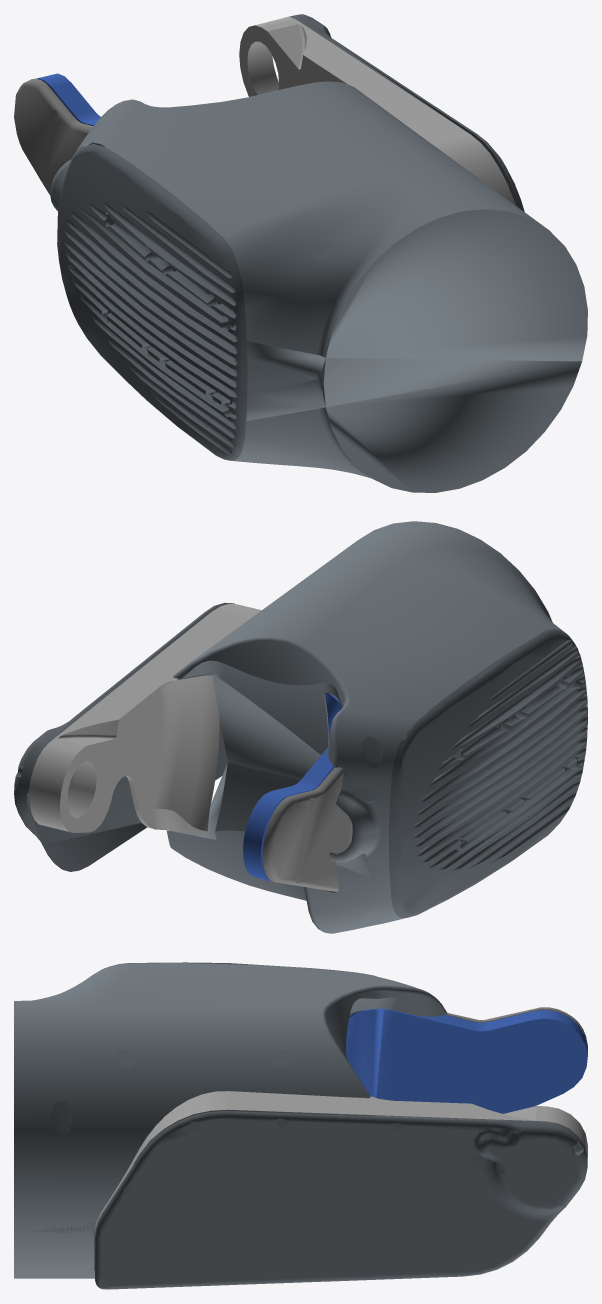
The model's file is RightWristYawLink.obj.
3 views of the same model, one above another, from view 1: azimuth 30°, elevation 25°; view 2: azimuth 150°, elevation 25°; view 3: azimuth 270°, elevation 25° (orthographic). The views are drawn at different scales.
Visible parts, largest first — view 1: N17_24_P02_10_L_Forearm_cover_Inside, N17_24_P02_08_Forearm_Heatsink, N17_24_P02_11_L_Forearm_cover_Outside, N17_24_P02_06_L_Forearm_Inside_structure, N17_24_P02_07_L_Forearm_Outside_structure_lid, N17_24_P02_06_L_Forearm_Inside_structure001, N17_24_P02_05_L_Forearm_Inside_structure_lid, N17_24_P02_01_L_Forearm_Outside_structure; view 2: N17_24_P02_10_L_Forearm_cover_Inside, N17_24_P02_08_Forearm_Heatsink, N17_24_P02_06_L_Forearm_Inside_structure, N17_24_P02_11_L_Forearm_cover_Outside, N17_24_P02_07_L_Forearm_Outside_structure_lid, N17_24_P02_05_L_Forearm_Inside_structure_lid, N17_24_P02_09_L_Cable_Clamp_Forearm_front, N17_24_P02_01_L_Forearm_Outside_structure, N17_24_P02_06_L_Forearm_Inside_structure001; view 3: N17_24_P02_05_L_Forearm_Inside_structure_lid, N17_24_P02_10_L_Forearm_cover_Inside, N17_24_P02_01_L_Forearm_Outside_structure, N17_24_P02_06_L_Forearm_Inside_structure, N17_24_P02_11_L_Forearm_cover_Outside, N17_24_P02_06_L_Forearm_Inside_structure001, N17_24_P02_08_Forearm_Heatsink, N17_24_P02_07_L_Forearm_Outside_structure_lid.
Boxes of the visible parts, x1,y1,x2,y2 form: N17_24_P02_10_L_Forearm_cover_Inside: (76,81,587,382); N17_24_P02_08_Forearm_Heatsink: (57,144,247,460); N17_24_P02_11_L_Forearm_cover_Outside: (232,358,581,492); N17_24_P02_06_L_Forearm_Inside_structure: (239,17,515,205); N17_24_P02_07_L_Forearm_Outside_structure_lid: (14,78,104,195); N17_24_P02_06_L_Forearm_Inside_structure001: (298,22,513,202); N17_24_P02_05_L_Forearm_Inside_structure_lid: (285,14,524,211); N17_24_P02_01_L_Forearm_Outside_structure: (37,73,100,125); N17_24_P02_10_L_Forearm_cover_Inside: (173,521,569,780); N17_24_P02_08_Forearm_Heatsink: (389,629,587,918); N17_24_P02_06_L_Forearm_Inside_structure: (28,603,261,835); N17_24_P02_11_L_Forearm_cover_Outside: (167,739,405,933); N17_24_P02_07_L_Forearm_Outside_structure_lid: (262,767,352,891); N17_24_P02_05_L_Forearm_Inside_structure_lid: (14,602,234,871); N17_24_P02_09_L_Cable_Clamp_Forearm_front: (329,774,391,884); N17_24_P02_01_L_Forearm_Outside_structure: (243,693,375,881); N17_24_P02_06_L_Forearm_Inside_structure001: (56,604,258,737); N17_24_P02_05_L_Forearm_Inside_structure_lid: (95,1110,587,1289); N17_24_P02_10_L_Forearm_cover_Inside: (14,963,447,1232); N17_24_P02_01_L_Forearm_Outside_structure: (346,1008,587,1113); N17_24_P02_06_L_Forearm_Inside_structure: (95,1091,587,1234); N17_24_P02_11_L_Forearm_cover_Outside: (14,1164,133,1278); N17_24_P02_06_L_Forearm_Inside_structure001: (95,1091,539,1226); N17_24_P02_08_Forearm_Heatsink: (102,962,375,1164); N17_24_P02_07_L_Forearm_Outside_structure_lid: (445,1007,587,1045).
Bounding box in the file's own units: 0.1139 × 0.087 × 0.1797.
